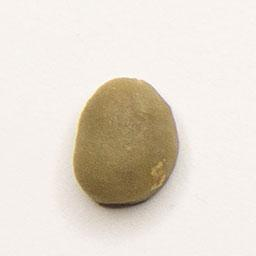premium: (69, 72, 183, 209)
